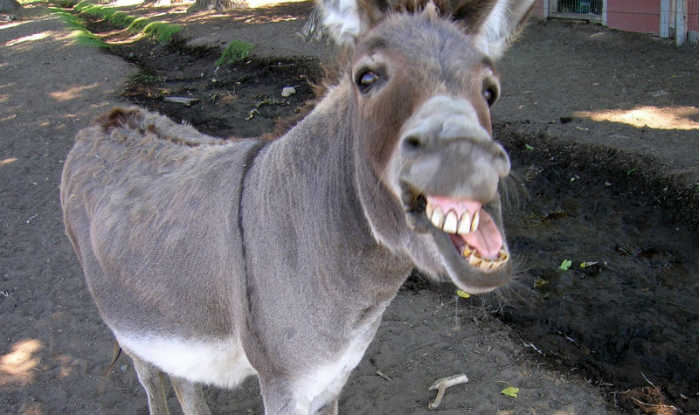donkey: (58, 1, 542, 414)
